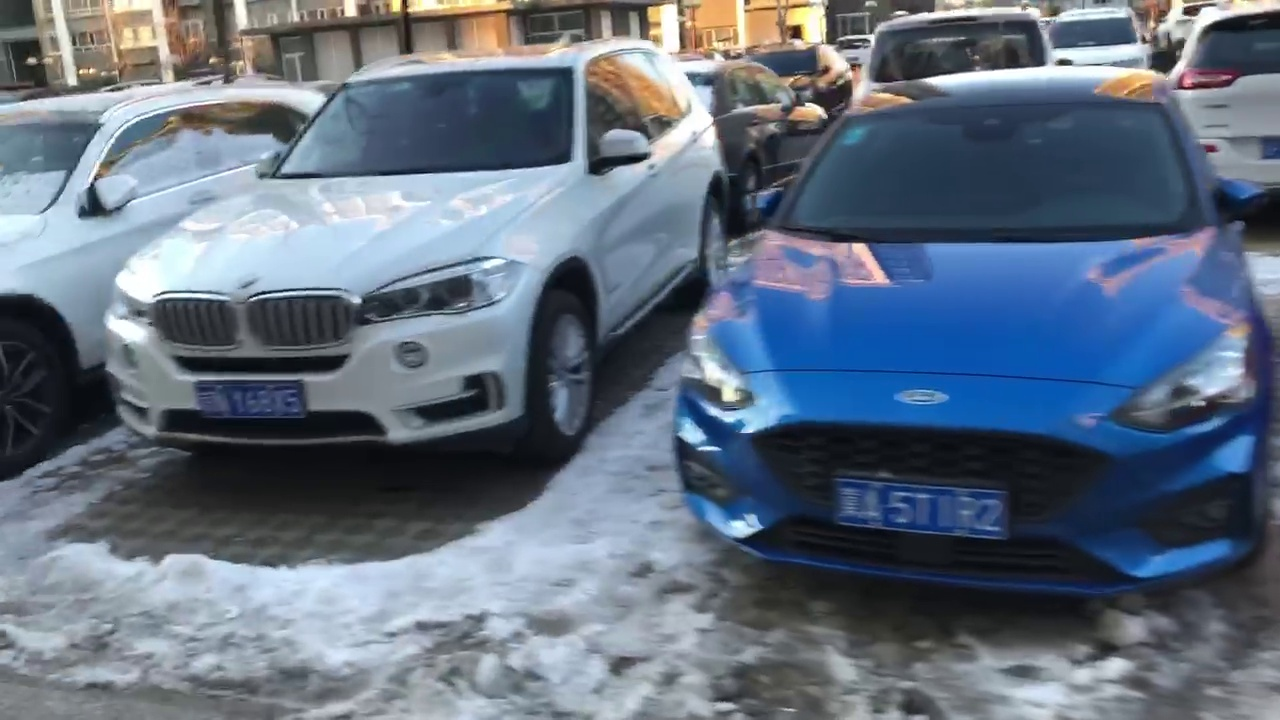plate: (835, 484, 1008, 536), (194, 380, 315, 420)
